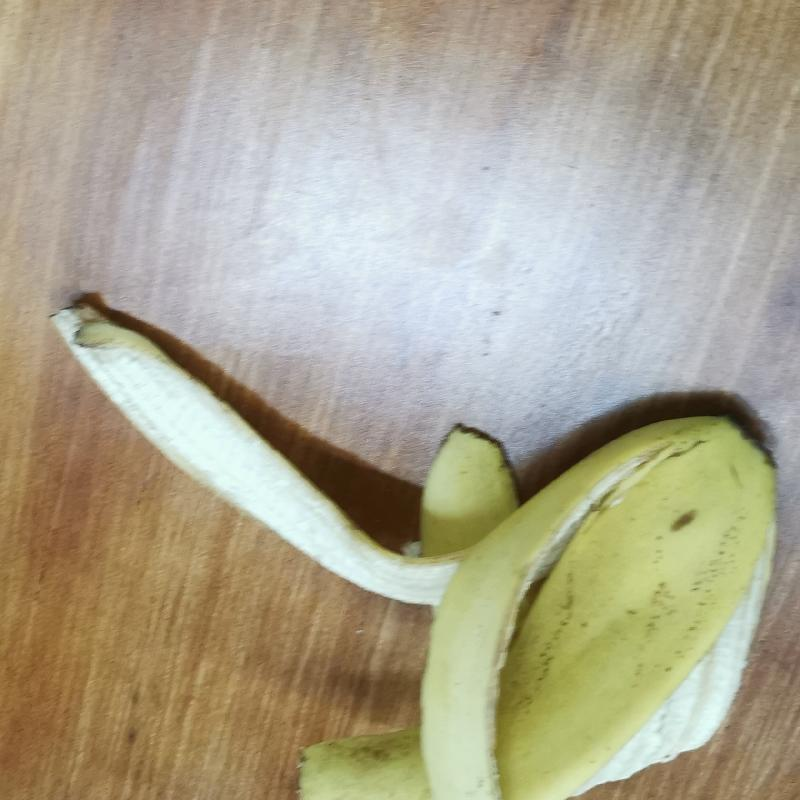bananas: (47, 286, 786, 800)
